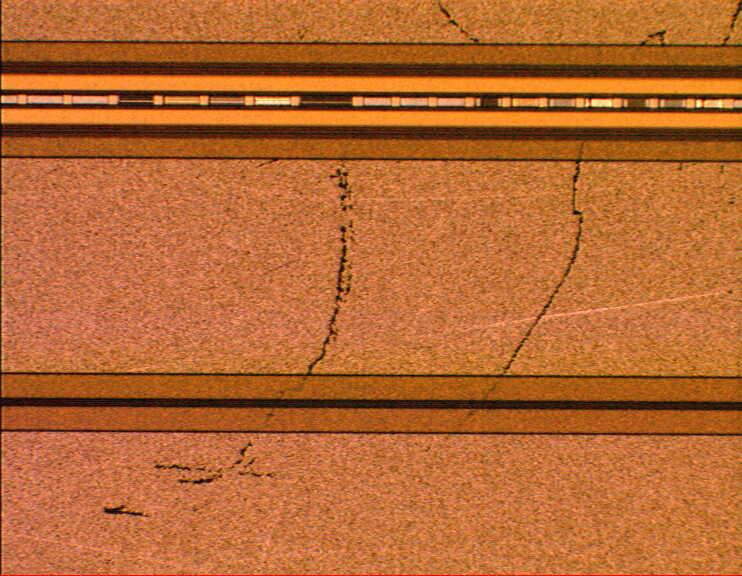SCRATCH: (94, 1, 742, 525)
